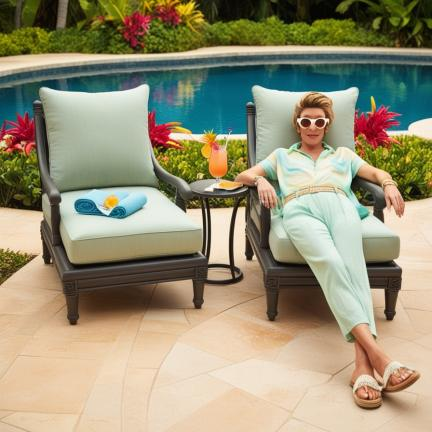guest on chair: (236, 86, 418, 408)
occupied chair: (34, 84, 208, 324)
